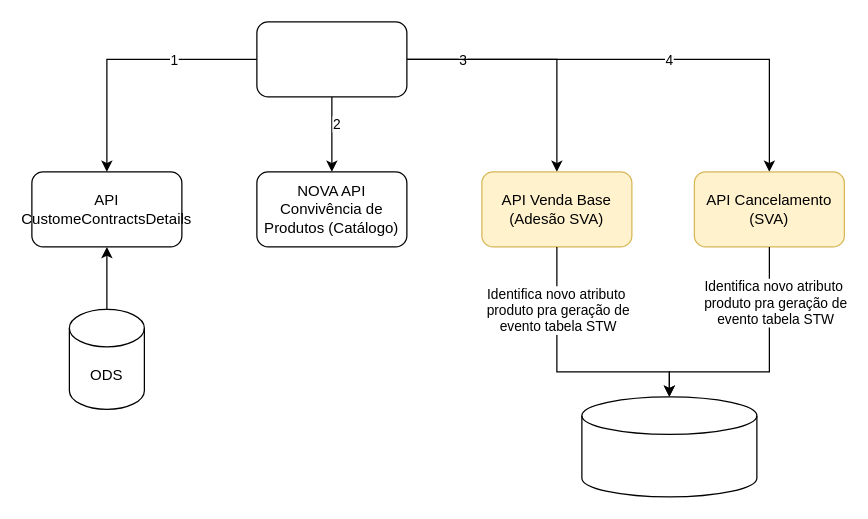
This 868x519 diagram has some shape labels left out. The shapes that lost their labels are listed below. From the top down, each one's centre as x and y in pixels, then its label:
At [331,59]: "HUB CLARO STORE".
At [669,446]: "8 bases NETSMS".
